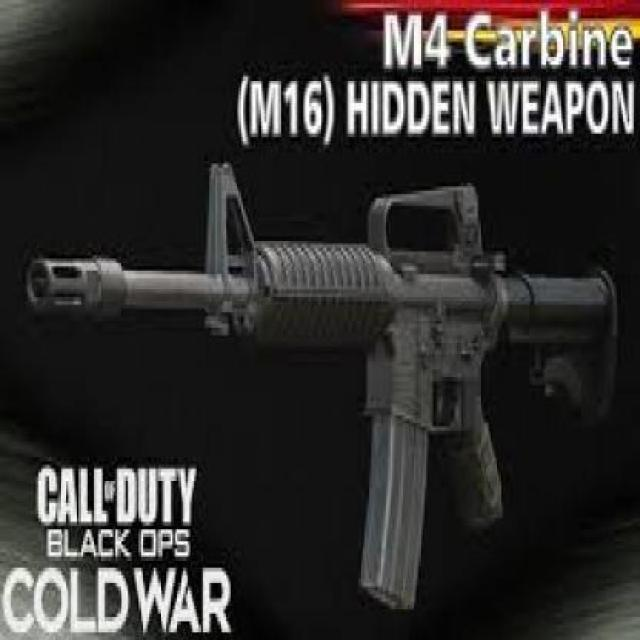weapon: (17, 156, 629, 614)
